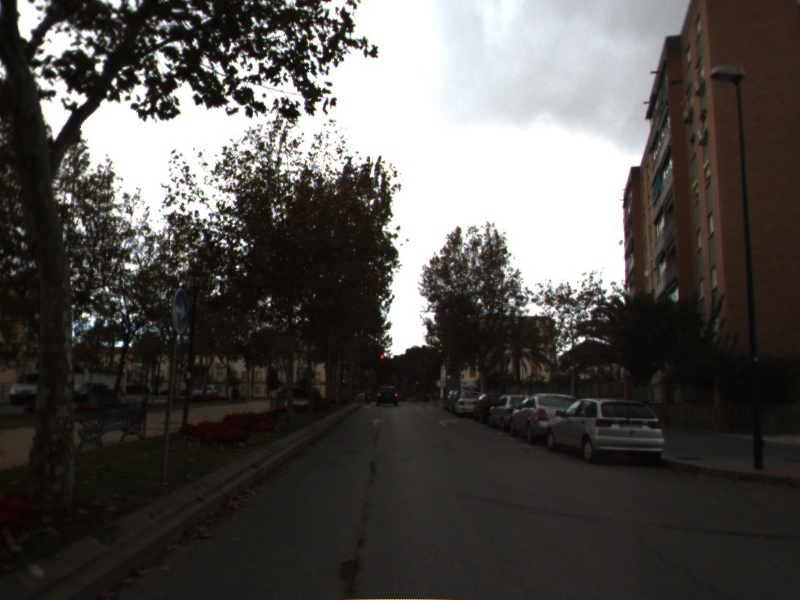RIGHT: (436, 417, 462, 429)
STRAIGHT: (368, 416, 385, 428)
